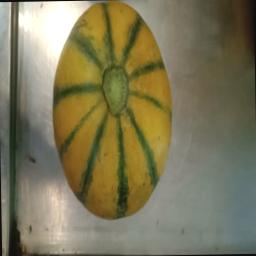Melon Ripe: (41, 2, 182, 224)
